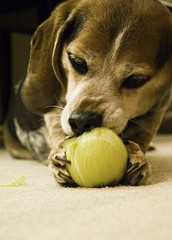tennis ball: (64, 126, 130, 188)
